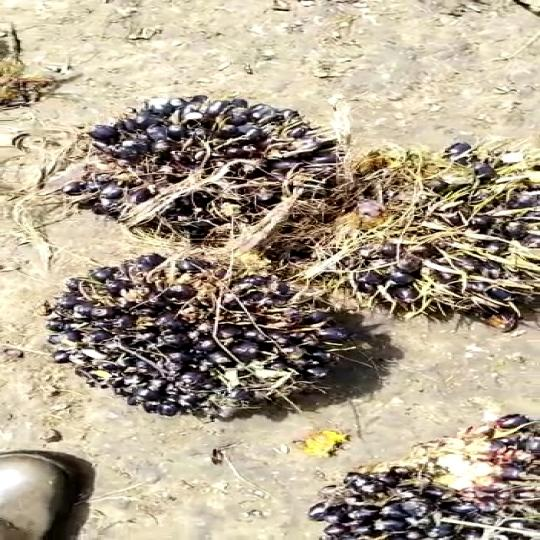mentah: (53, 246, 400, 433), (82, 81, 360, 253), (339, 122, 540, 337)
